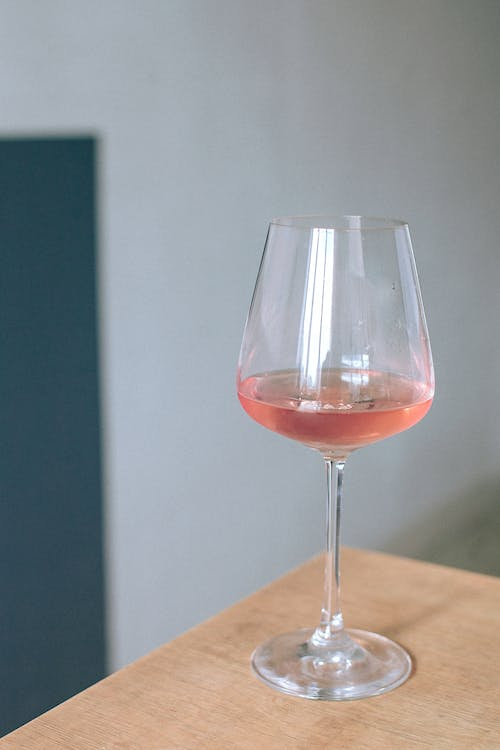alcohol: (234, 211, 437, 704)
